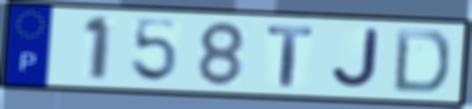1: (81, 15, 114, 83)
5: (126, 16, 180, 85)
8: (195, 19, 250, 88)
D: (390, 27, 453, 96)
J: (329, 27, 381, 92)
T: (265, 25, 315, 89)
